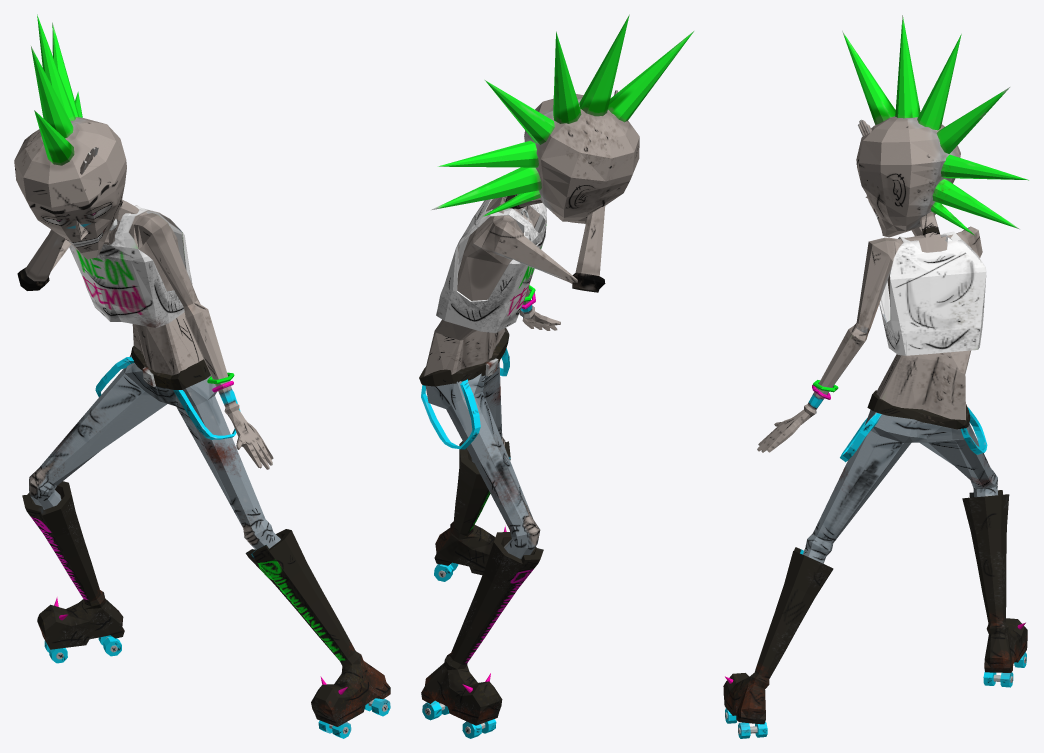
File: punkAnimation_000049.obj
3 renders of one model, left to right at view 1: azimuth 30°, elevation 25°; view 2: azimuth 150°, elevation 25°; view 3: azimuth 270°, elevation 25°, orthographic. The views are drawn at different scales.
Visible parts, largest first — view 1: Cube.004_Cube.003; view 2: Cube.004_Cube.003; view 3: Cube.004_Cube.003.
Boxes of the visible parts, left/top/right/bottom form: Cube.004_Cube.003: left=14, top=14, right=390, bottom=738; Cube.004_Cube.003: left=419, top=14, right=693, bottom=738; Cube.004_Cube.003: left=723, top=15, right=1028, bottom=738.
Size of the model in its own units: 3.13 by 6.72 by 3.03.
